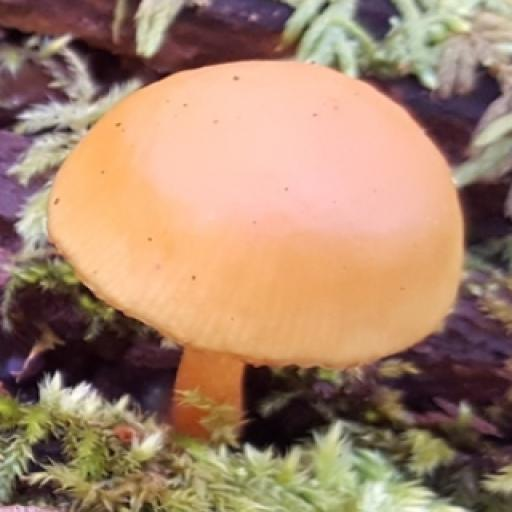mushroom: (39, 58, 468, 435)
